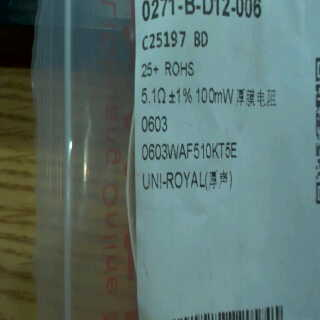5.1R: (137, 84, 169, 108)
